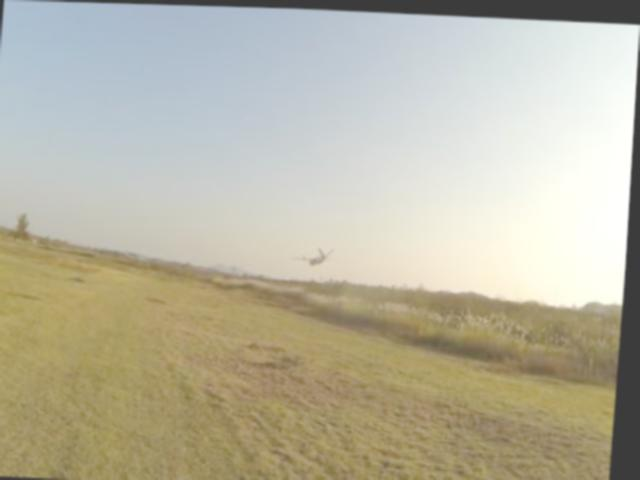uav: (286, 236, 351, 273)
